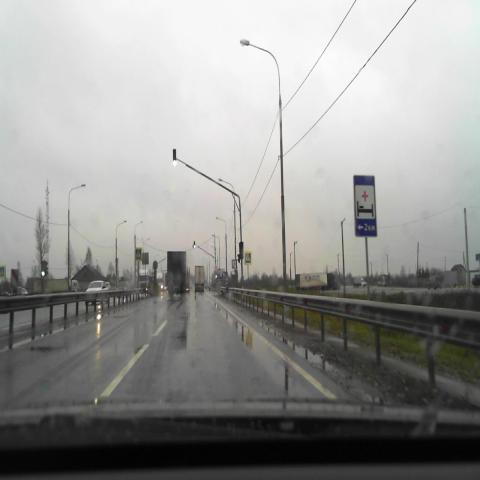7_2: (354, 175, 376, 236)
